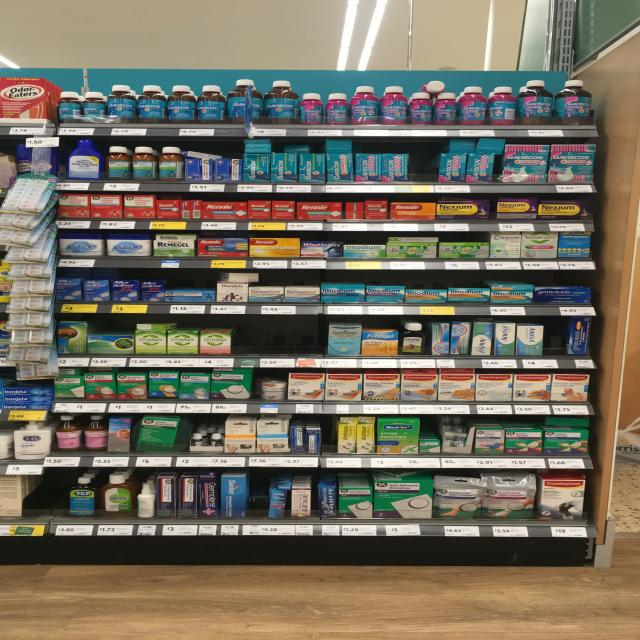empty: (229, 316, 326, 358), (397, 133, 448, 186), (29, 464, 69, 527), (248, 470, 277, 532), (539, 313, 569, 360)
